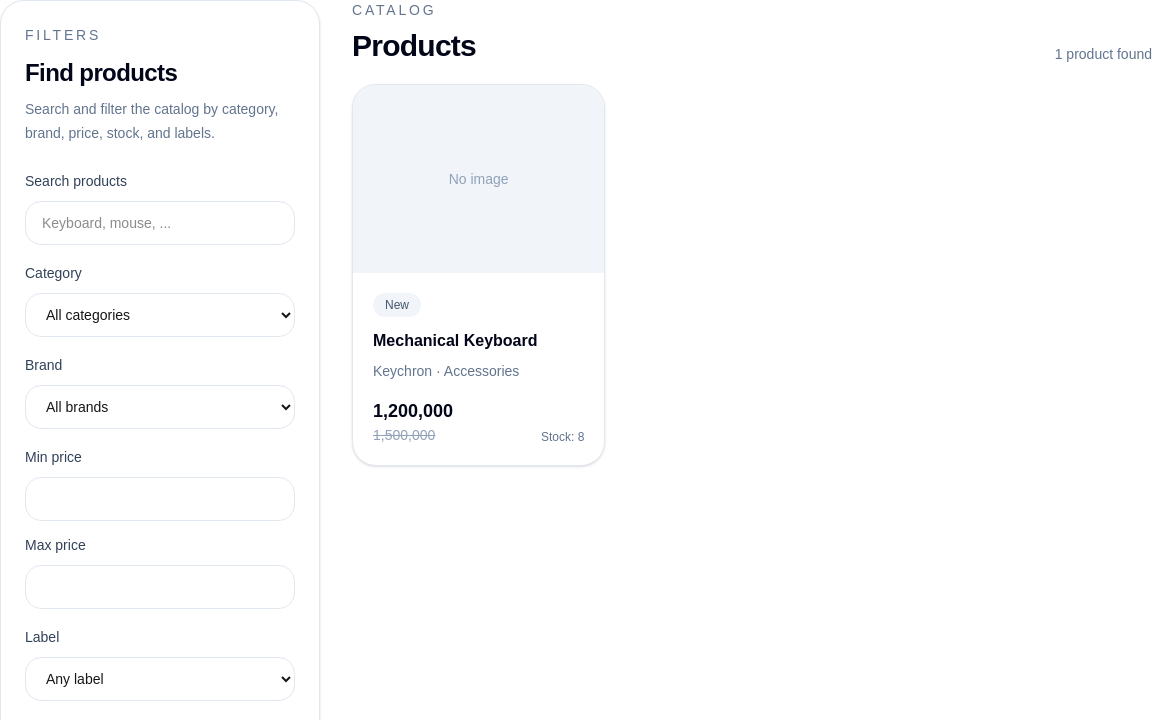
Test: ProductList › shows empty filtered state
The width and height of the screenshot is (1164, 720).
Expected: the heading "Mechanical Keyboard" is shown, x1=373 y1=332 x2=538 y2=350
Type "missing" into the field labelled "Search products".
click(160, 223); type("missing")  # box x1=25 y1=201 x2=295 y2=245
(page scrolled)
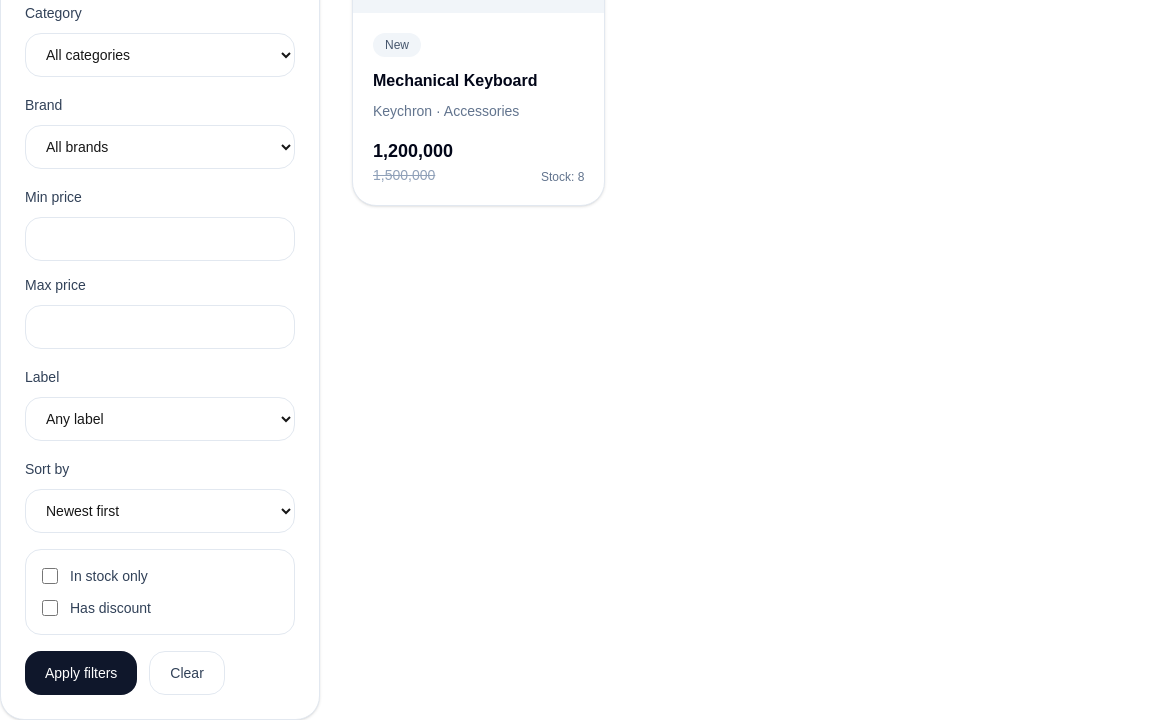
Click the button "Apply filters".
click(81, 673)  # box x1=25 y1=651 x2=137 y2=695
(page scrolled)
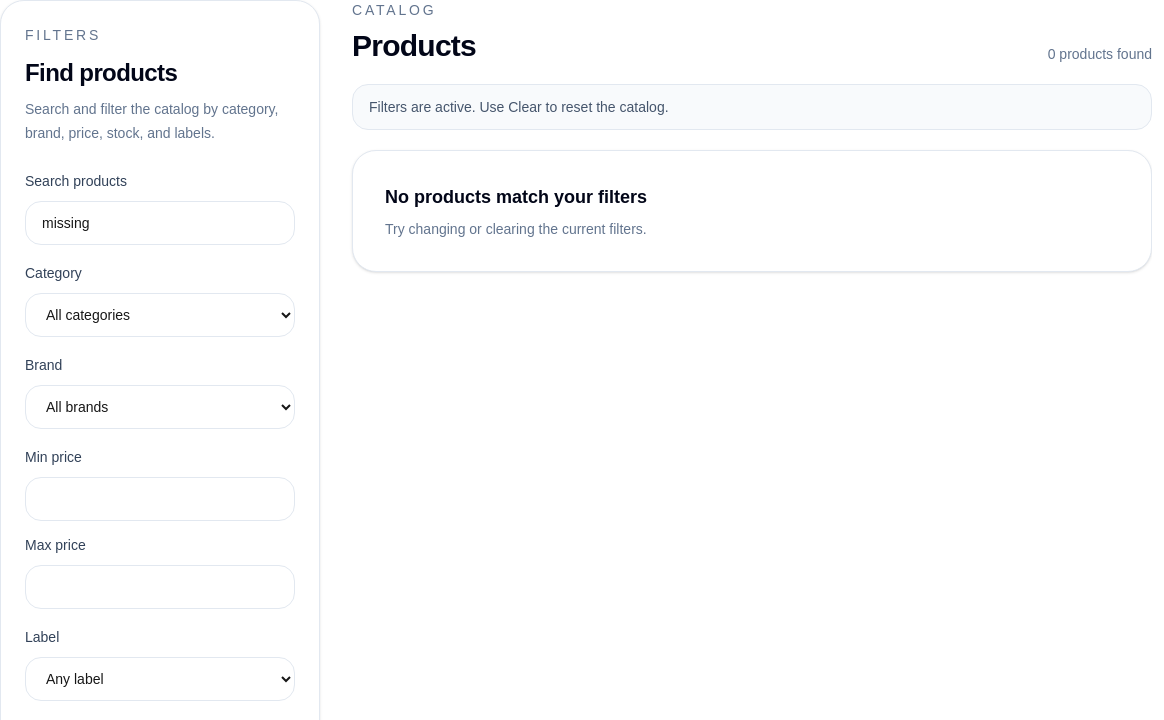
Now the heading "No products match your filters" is shown, box x1=385 y1=187 x2=647 y2=207
Now the text "Try changing or clearing the current filters." is shown, box x1=385 y1=221 x2=647 y2=237
